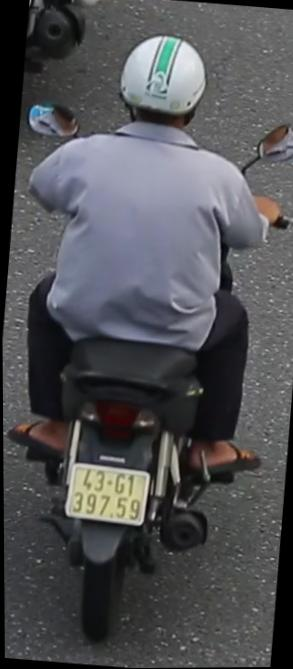LP: (62, 459, 151, 533)
helmet: (109, 25, 213, 150)
